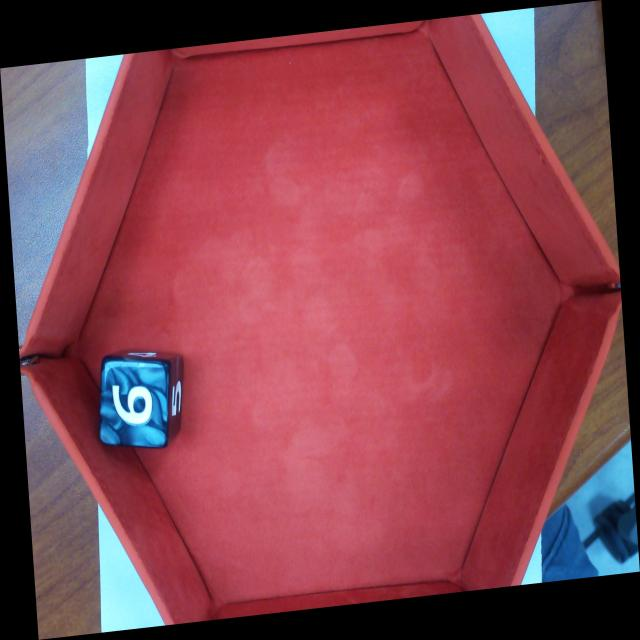dice: (97, 354, 172, 450)
